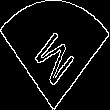M_SW: (30, 20, 80, 90)
